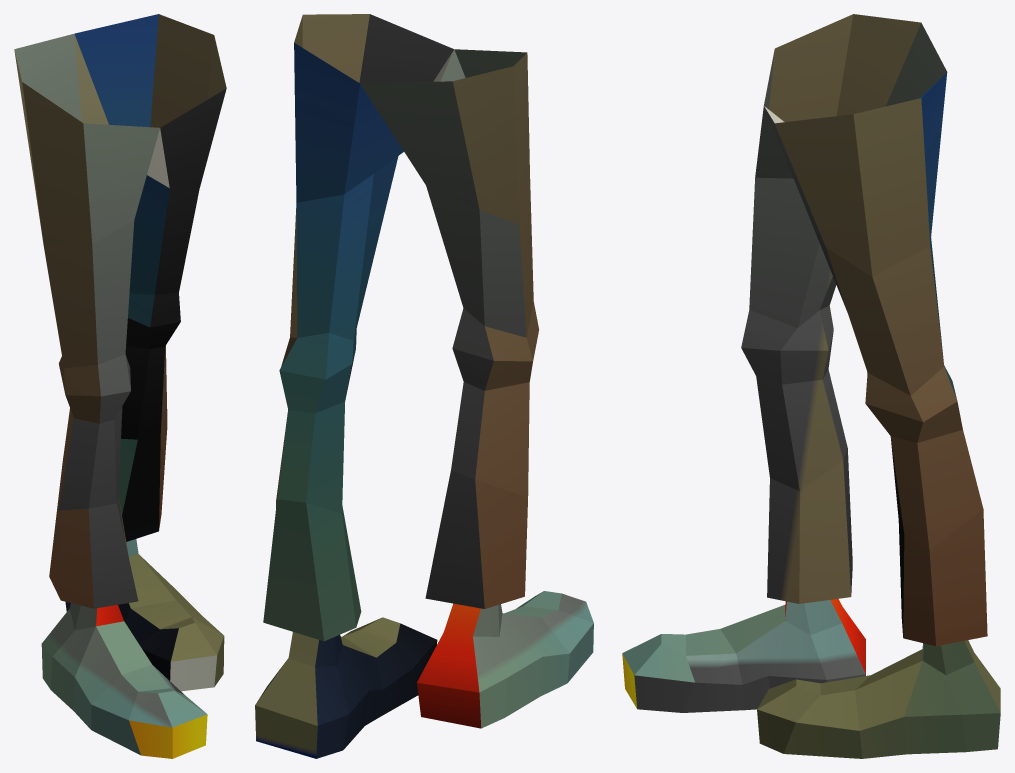
The model's file is lostGirlLegs.obj.
The picture shows the model from 3 angles, left to right: view 1: azimuth 30°, elevation 25°; view 2: azimuth 150°, elevation 25°; view 3: azimuth 270°, elevation 25°; orthographic projection. The views are drawn at different scales.
Parts seen in each view (by area): view 1: Cube.001; view 2: Cube.001; view 3: Cube.001.
Part boxes in pixels (x1=…): Cube.001: x1=14, y1=14, x2=226, y2=758; Cube.001: x1=255, y1=14, x2=593, y2=758; Cube.001: x1=622, y1=14, x2=1000, y2=758.
Bounding box in the file's own units: 1.2 × 3.68 × 1.92.
Materials: 1 (1 with a texture image).
